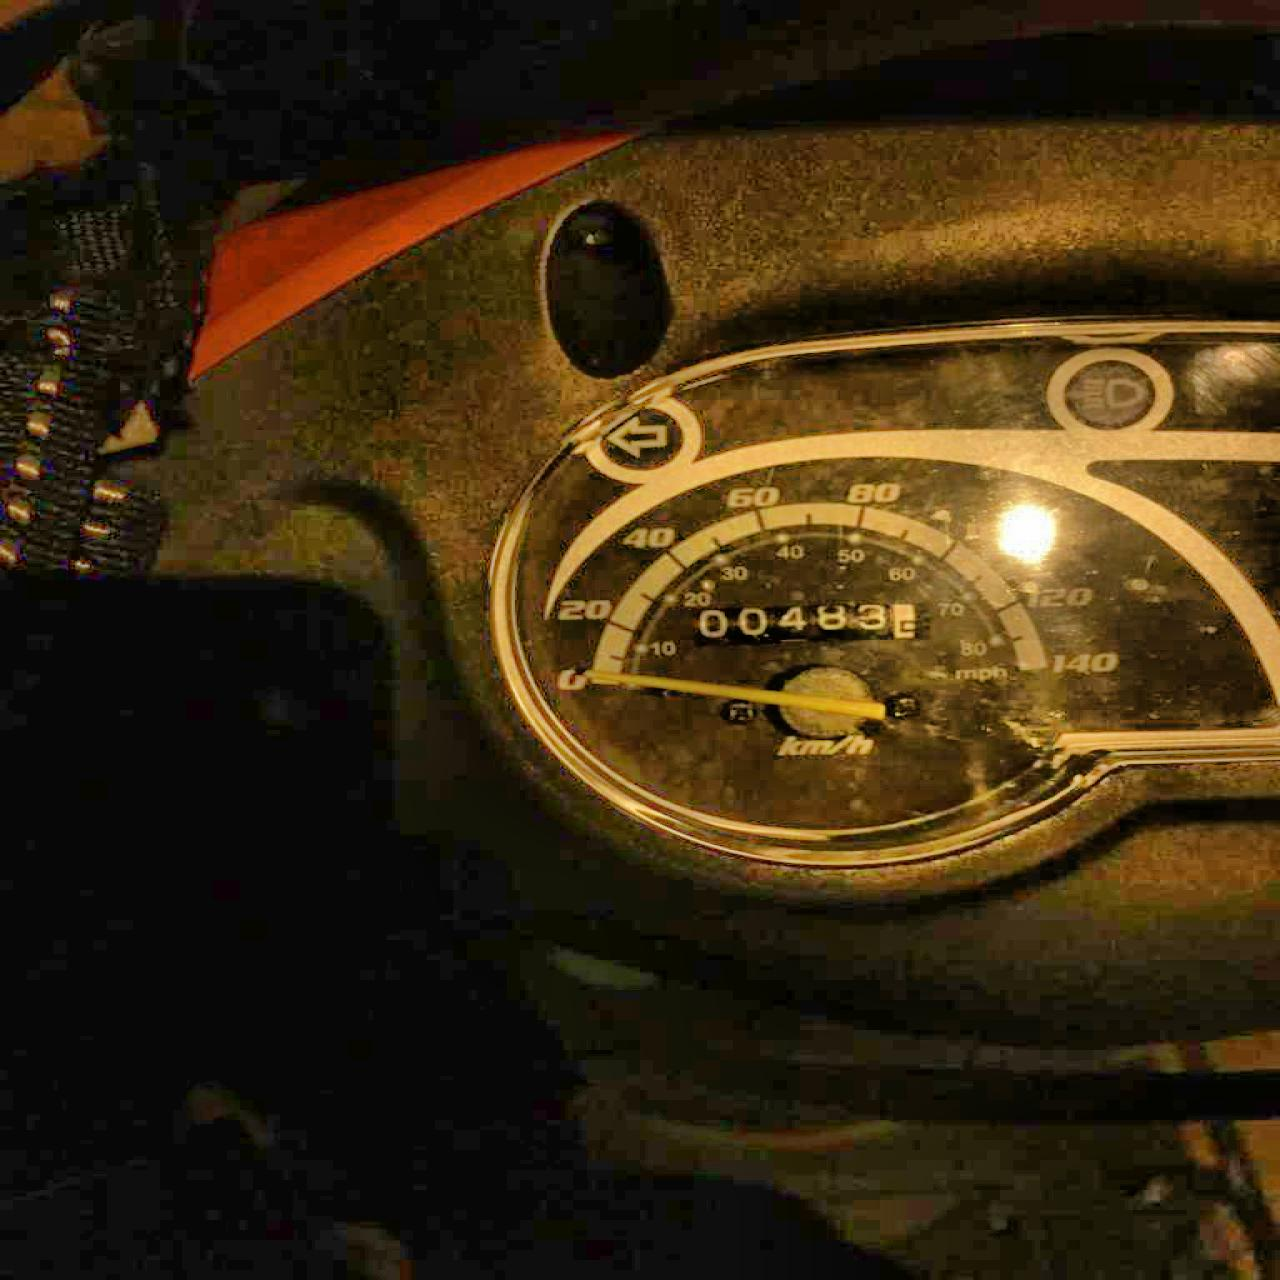0: (737, 605, 768, 638), (696, 607, 727, 636)
3: (855, 602, 888, 632)
4: (778, 605, 806, 631)
5: (894, 615, 924, 639)
8: (816, 602, 846, 629)
odometer: (690, 601, 930, 641)
